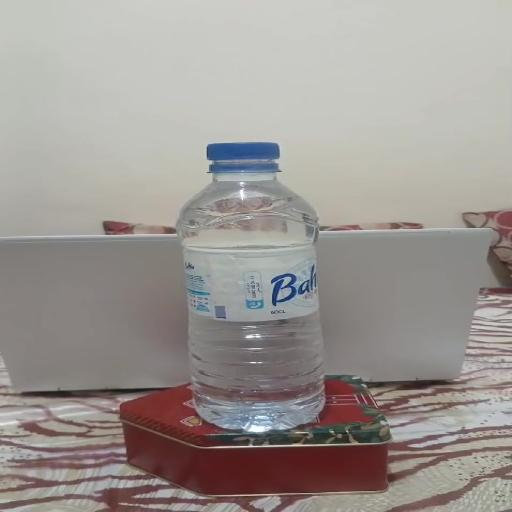bouteille non conformite: (156, 126, 303, 188)
